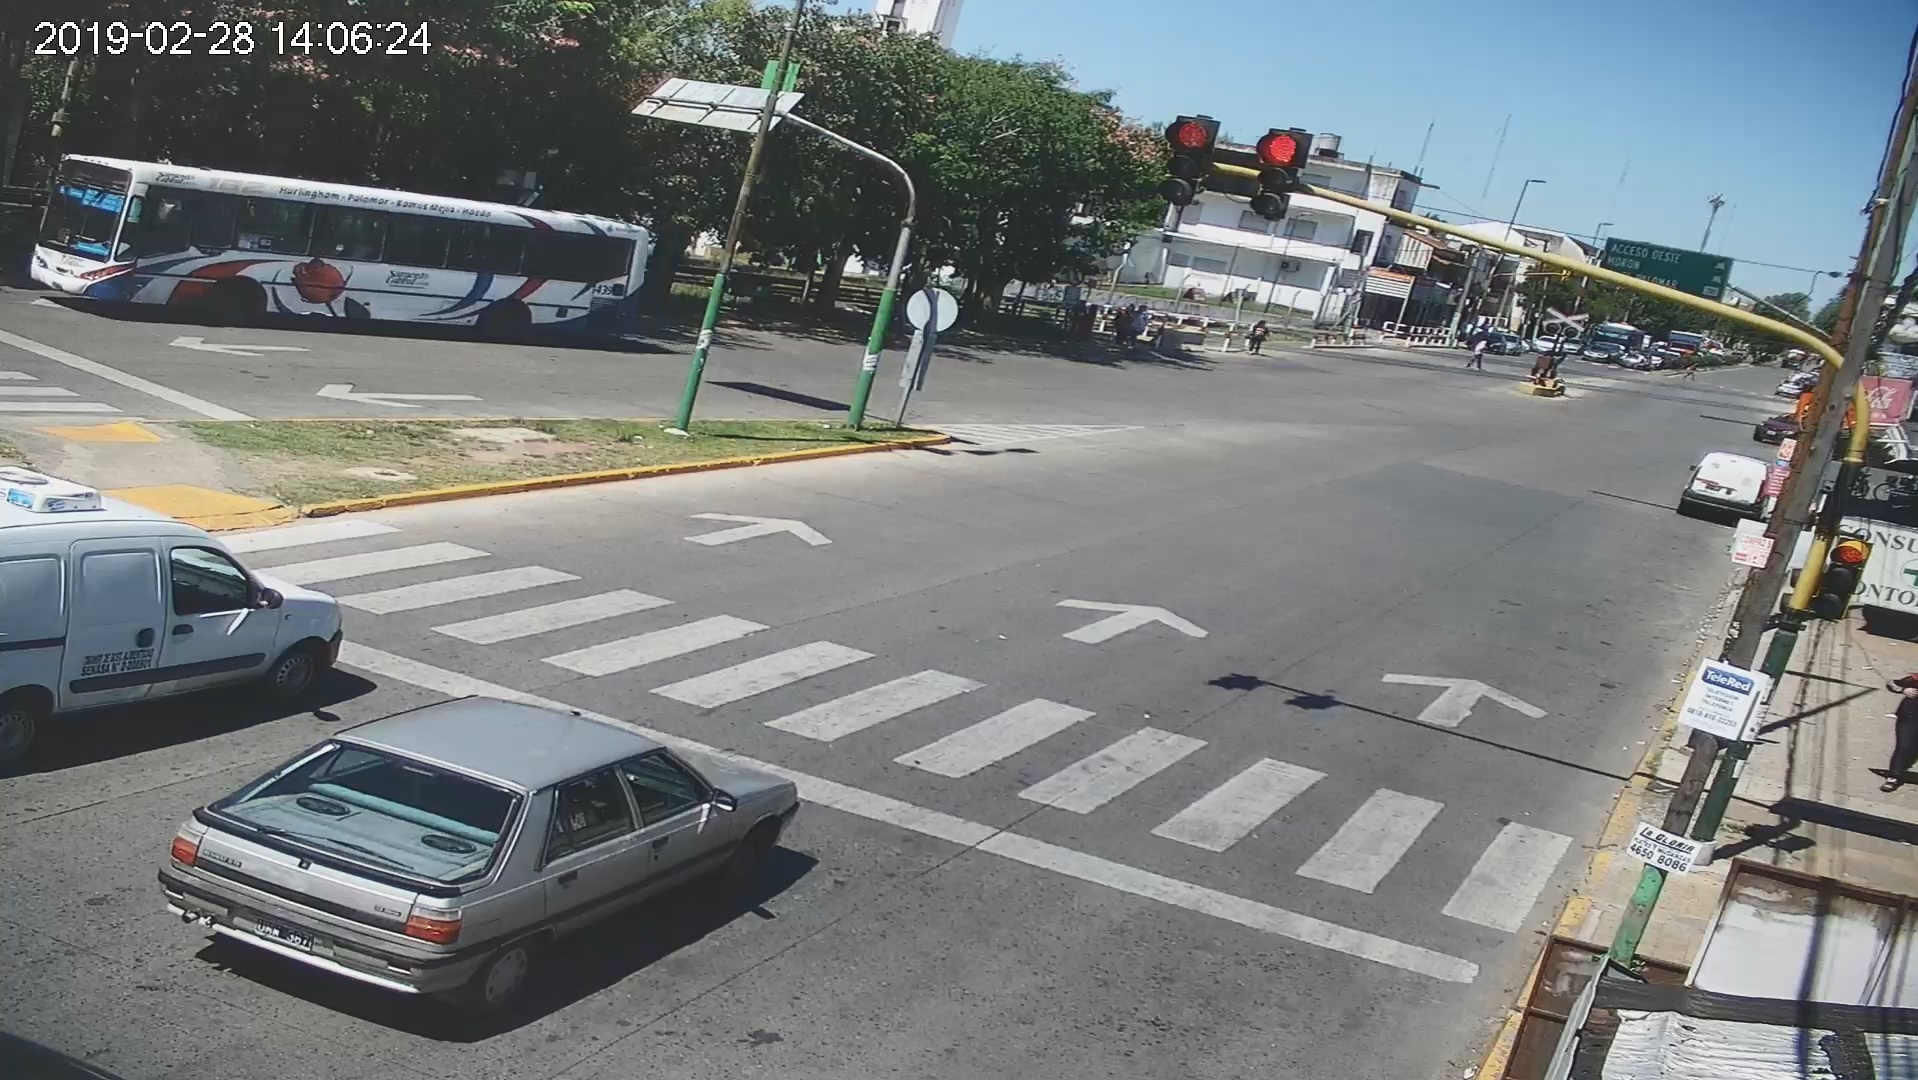bus: (32, 148, 673, 379)
car: (154, 693, 801, 1043), (1, 469, 371, 720), (1681, 439, 1763, 529)
